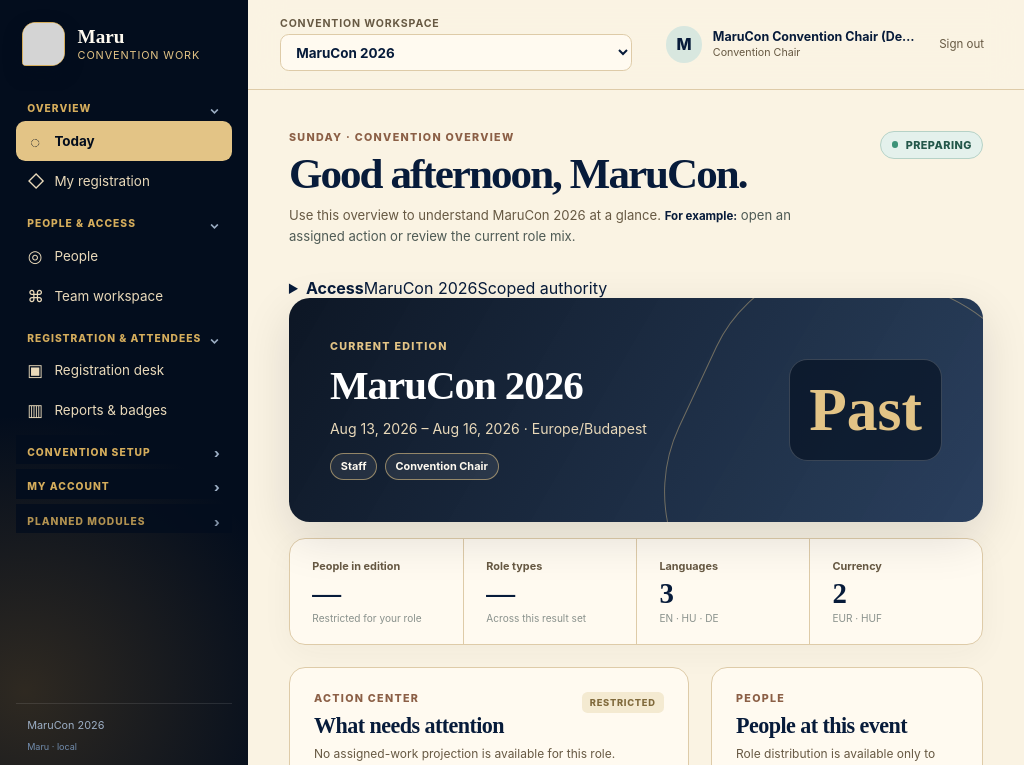
Management Console › does not reveal people, counts, or filters after a policy denial
Expected: the heading "MaruCon 2026" is shown, [330, 362, 583, 408]
Click the button "◎ People".
click(124, 256)  # box [16, 236, 232, 276]
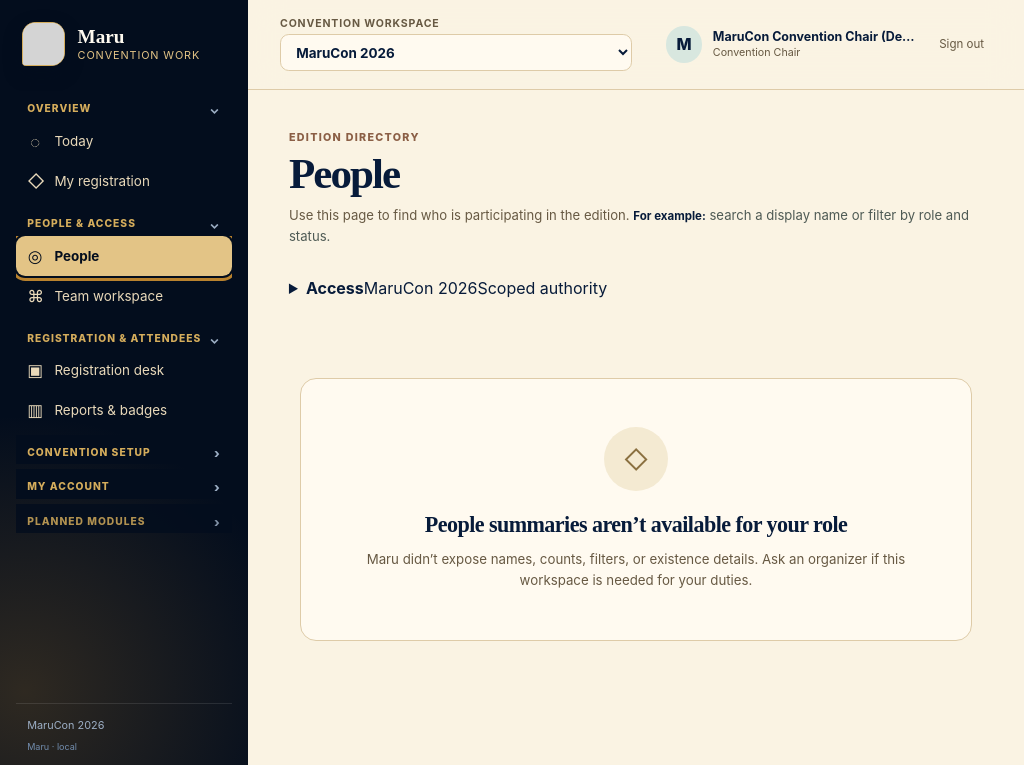
Expected: the heading "People summaries aren’t available for your role" is shown, [425, 512, 847, 537]
